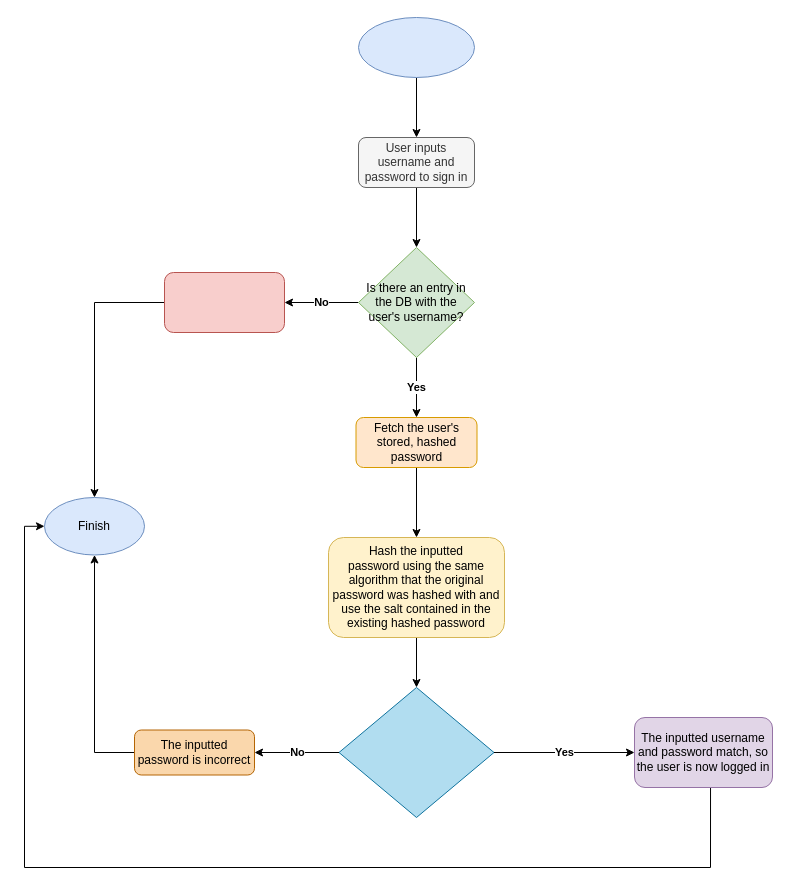
Some shapes in this 790 by 893 pixel diagram are drawn without their labels. Each missing label, with the box of its shape:
Is the exiting password's hash equal to the inputted password's hash?: (338, 686, 494, 818)
Start: (358, 16, 474, 78)
There is no user with the given username: (164, 272, 284, 332)
